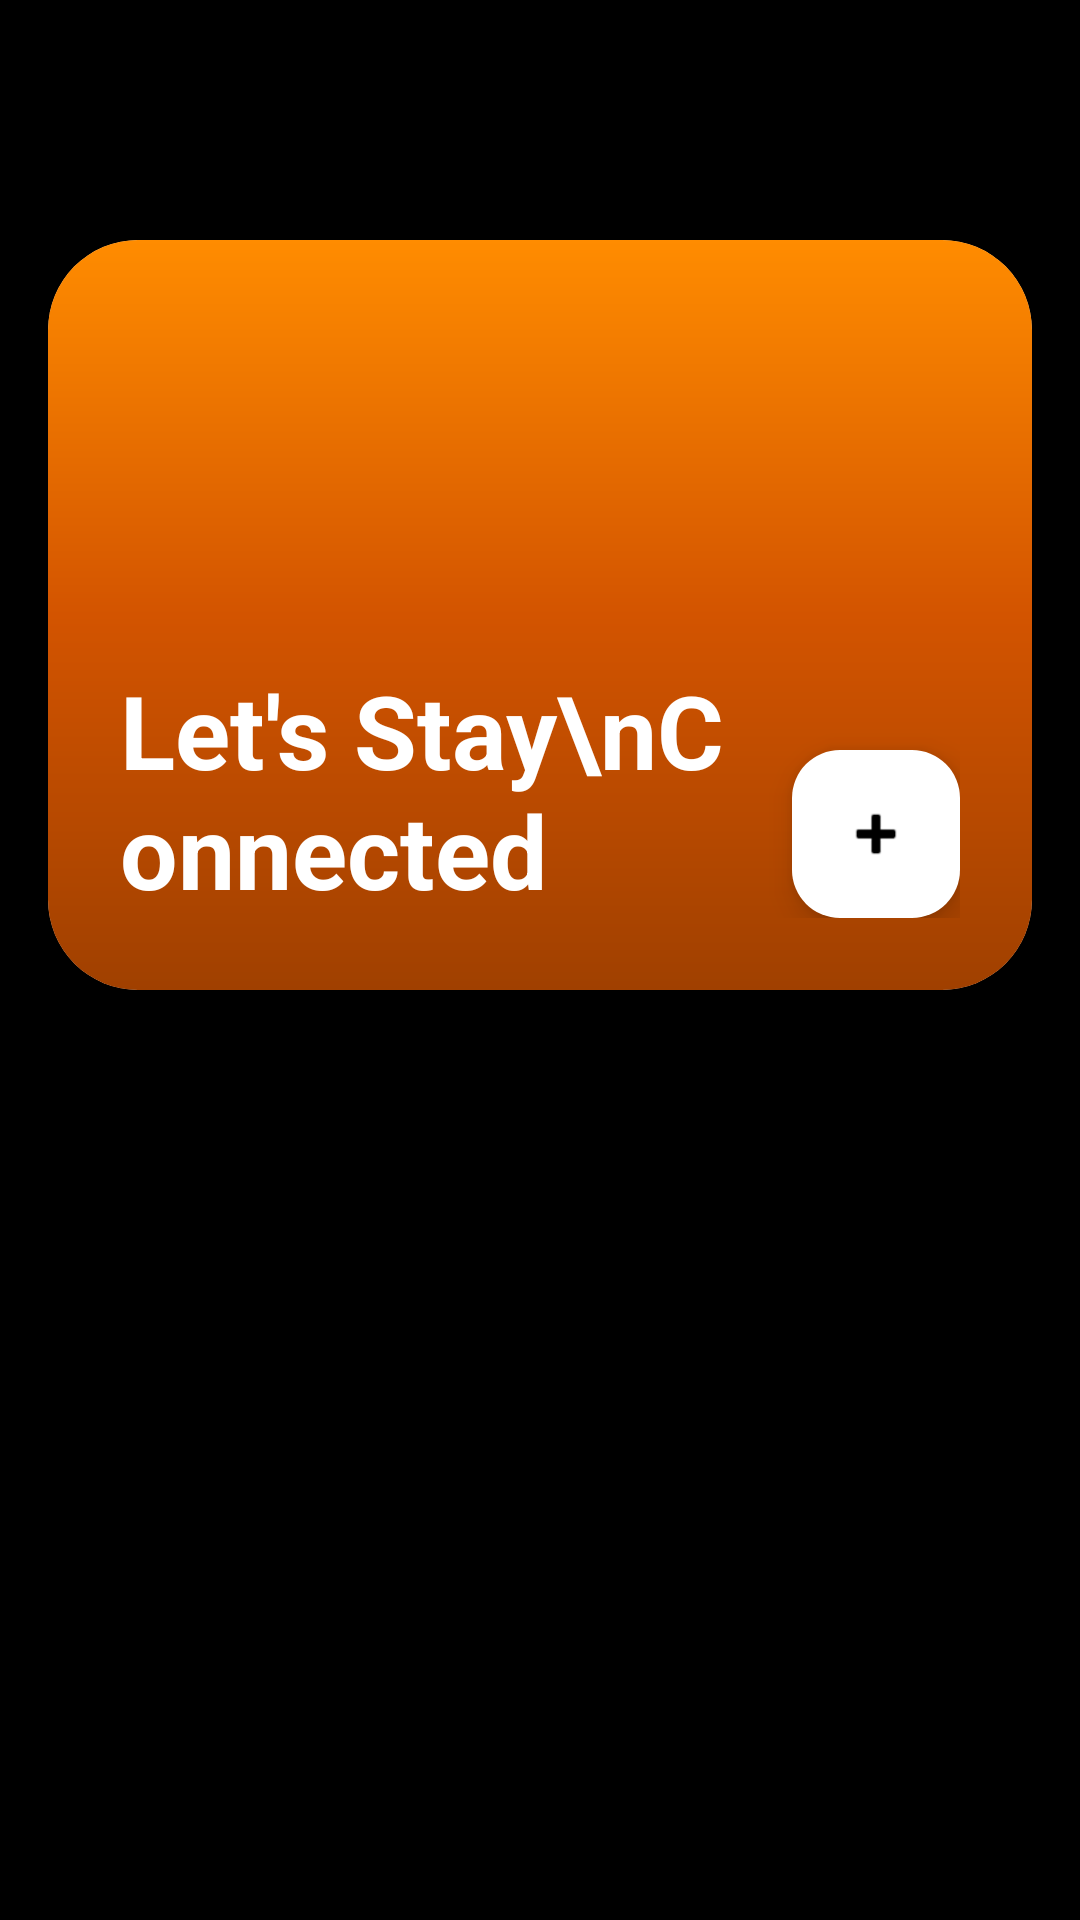

Where icons sit on this 1080*1920 app screen, as [x1,y1,x2,y2]:
add: [792,750,960,918]
